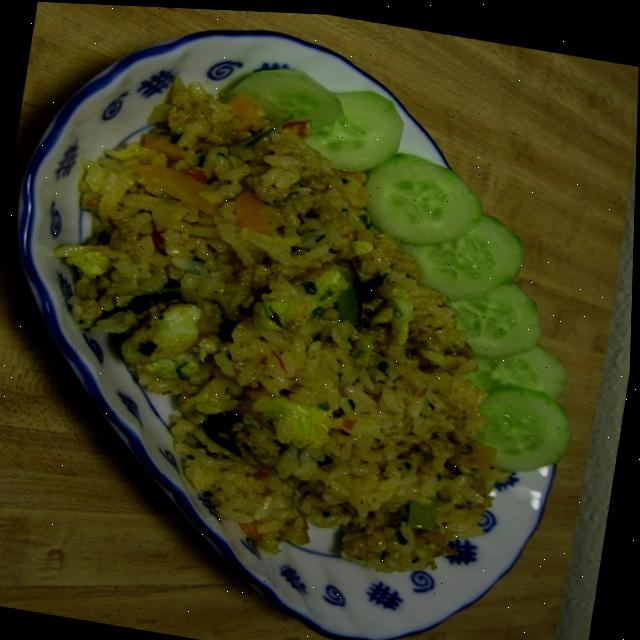米饭主食: (0, 15, 597, 627)
